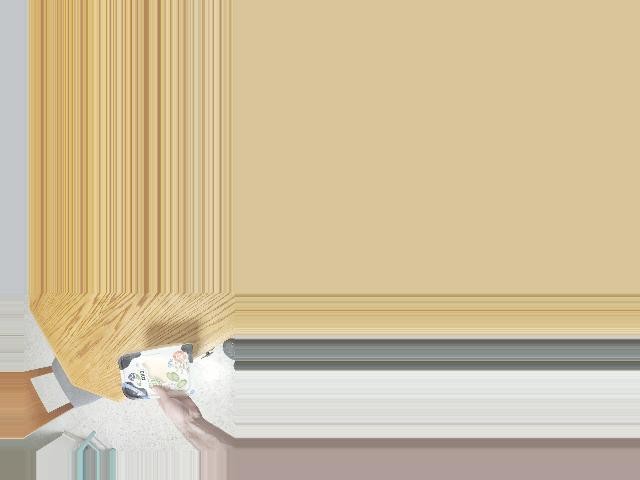cheese: (119, 344, 195, 407)
